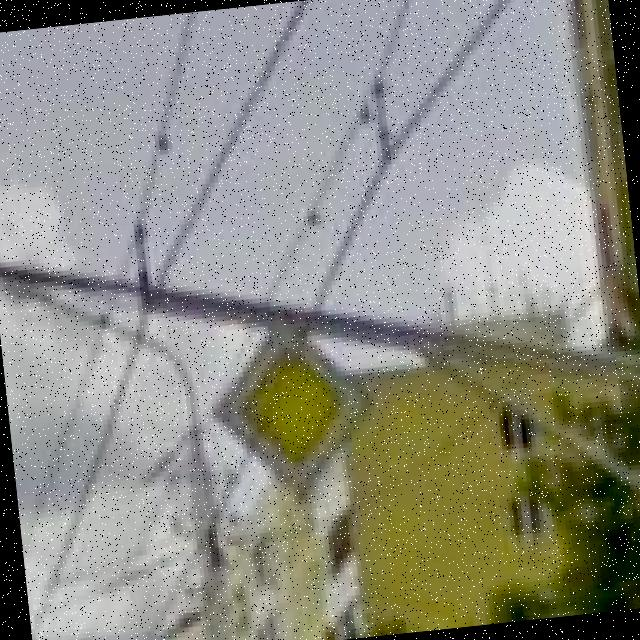Droga z pierwszenstwem: (199, 310, 384, 518)
